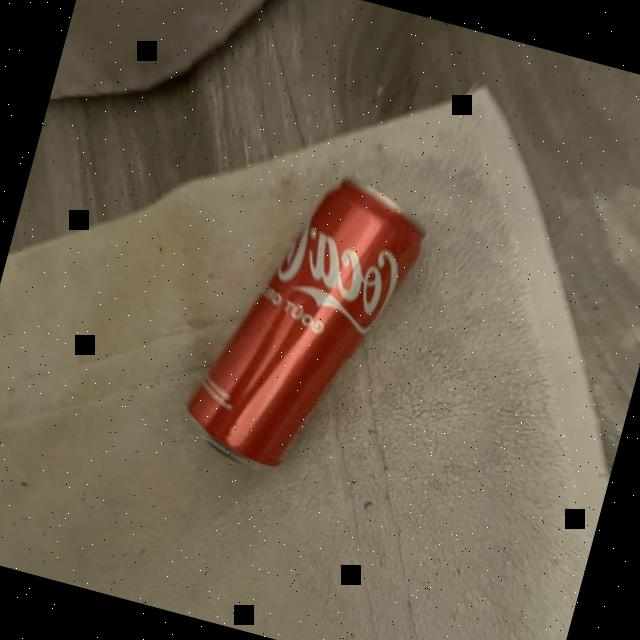can: (168, 144, 440, 500)
